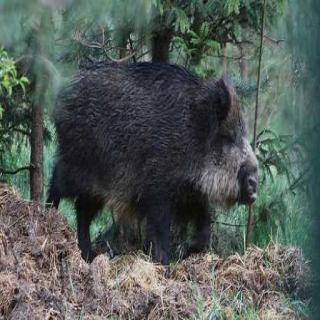Pig: (48, 45, 266, 288)
